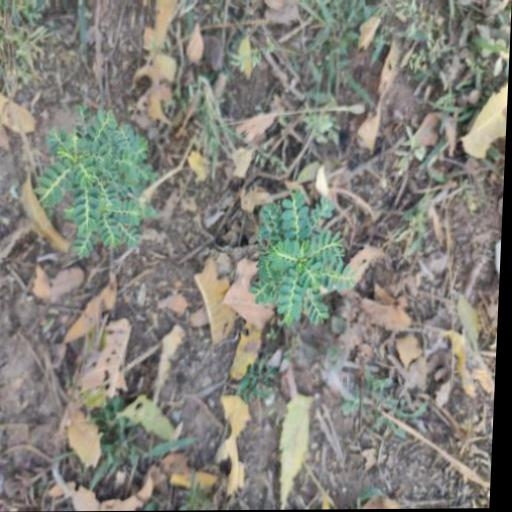weed: (47, 106, 158, 251), (256, 185, 351, 330)
